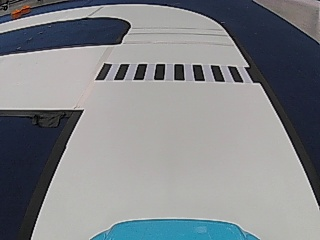CrossWalk: (95, 62, 260, 84)
